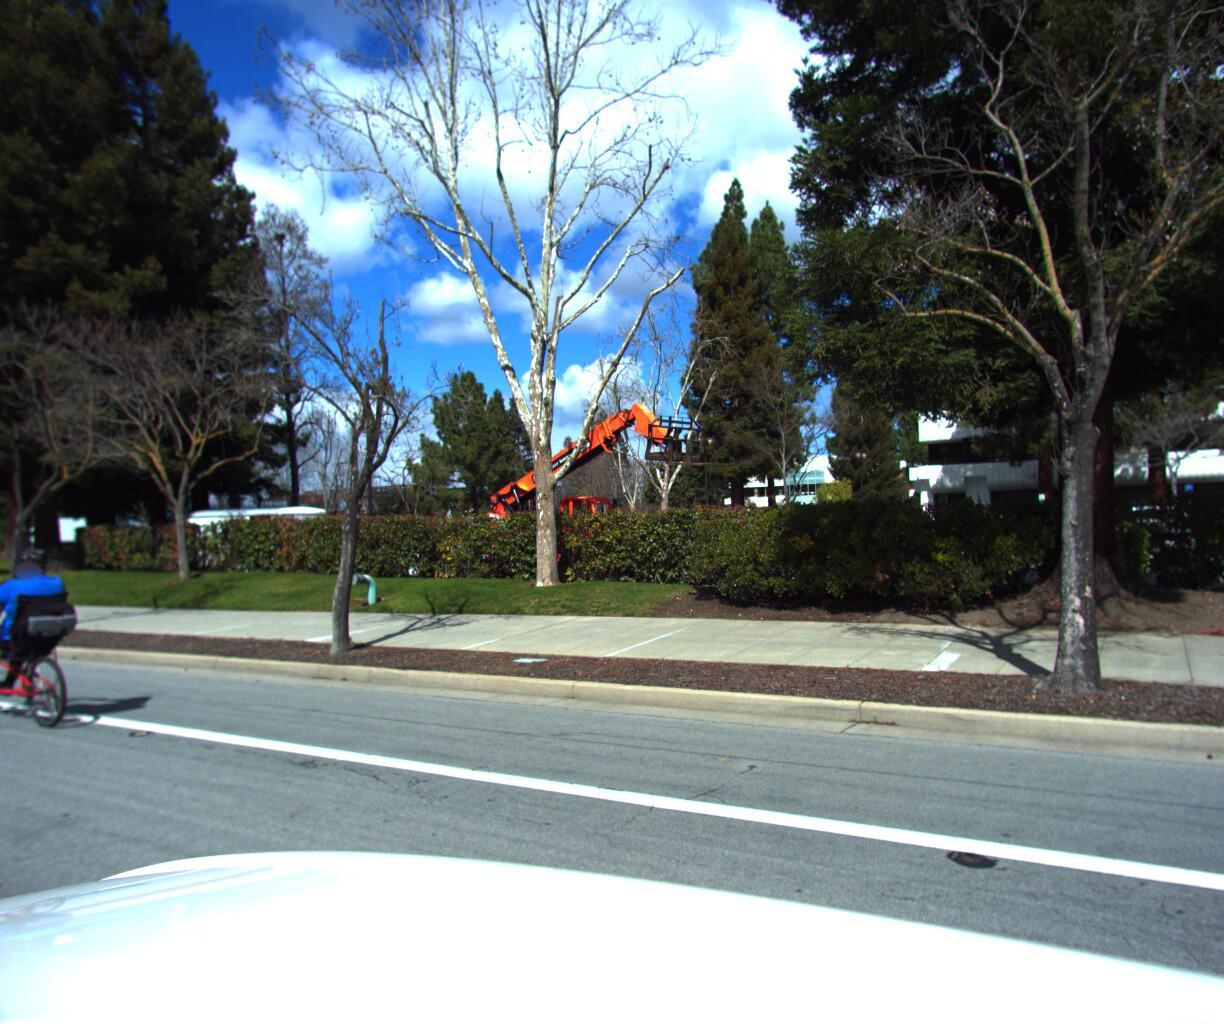bicycle: (0, 537, 126, 739)
